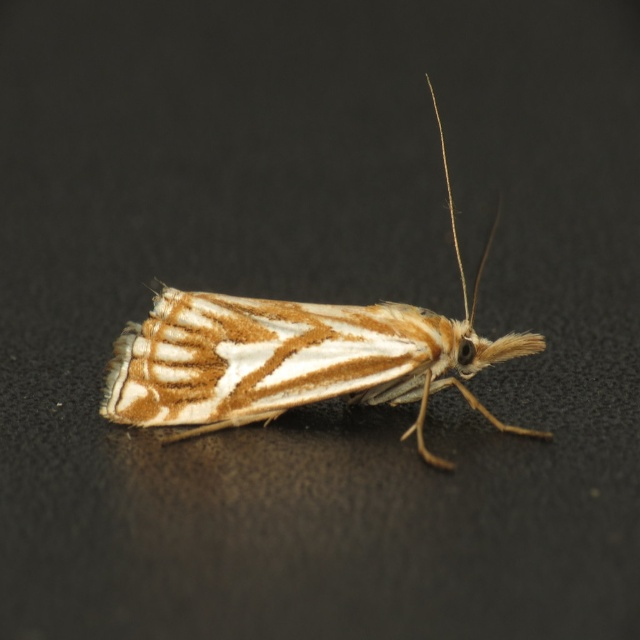Moths and butterflies: (100, 73, 560, 471)
